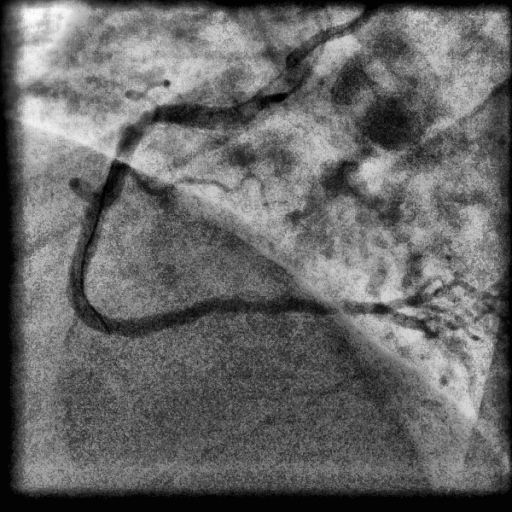rca: (67, 85, 357, 338)
